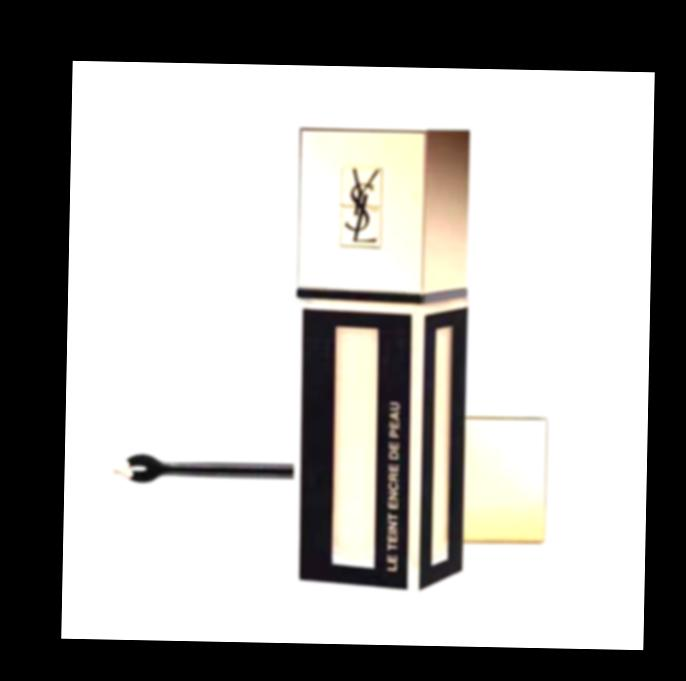cosmetic: (292, 128, 475, 594)
